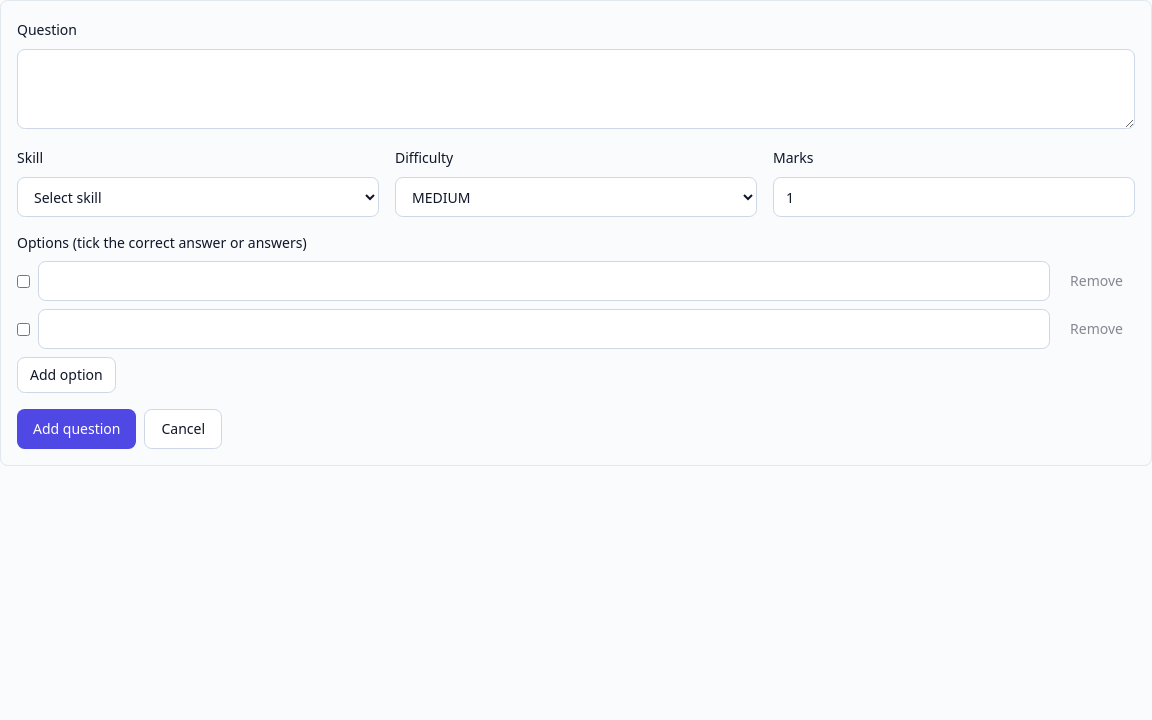
Test: QuestionForm validation › requires at least 1 correct option
Type "What is 2+2?" into the text box labelled "Question" at point(576, 89), box x1=17 y1=49 x2=1135 y2=129
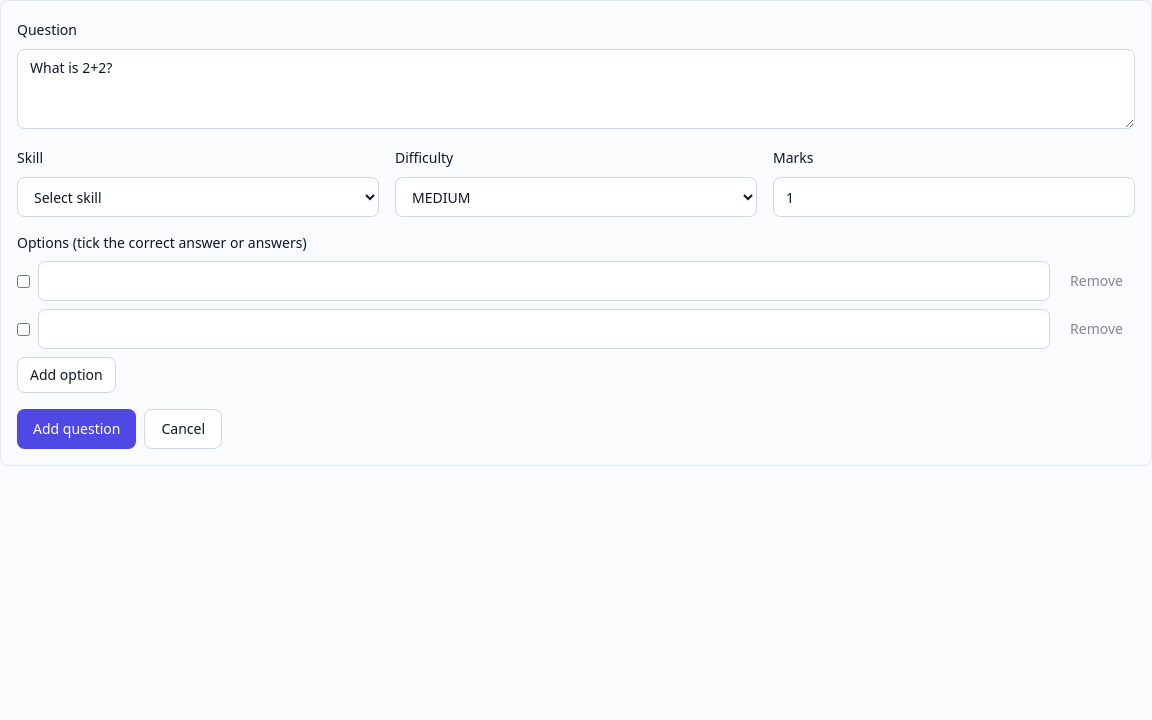
Select "Logic" in the dropdown labelled "Skill" at point(198, 197), box x1=17 y1=177 x2=379 y2=217
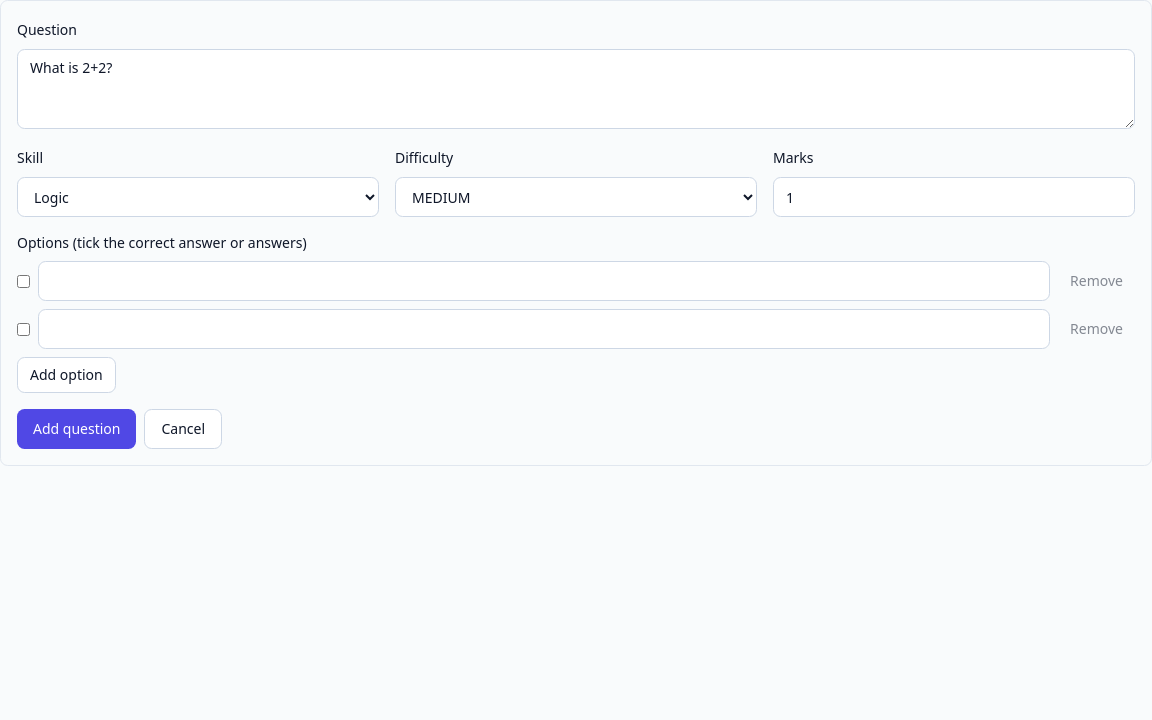
Type "4" into the field named "Option 1 text" at point(544, 281), box x1=38 y1=261 x2=1050 y2=301
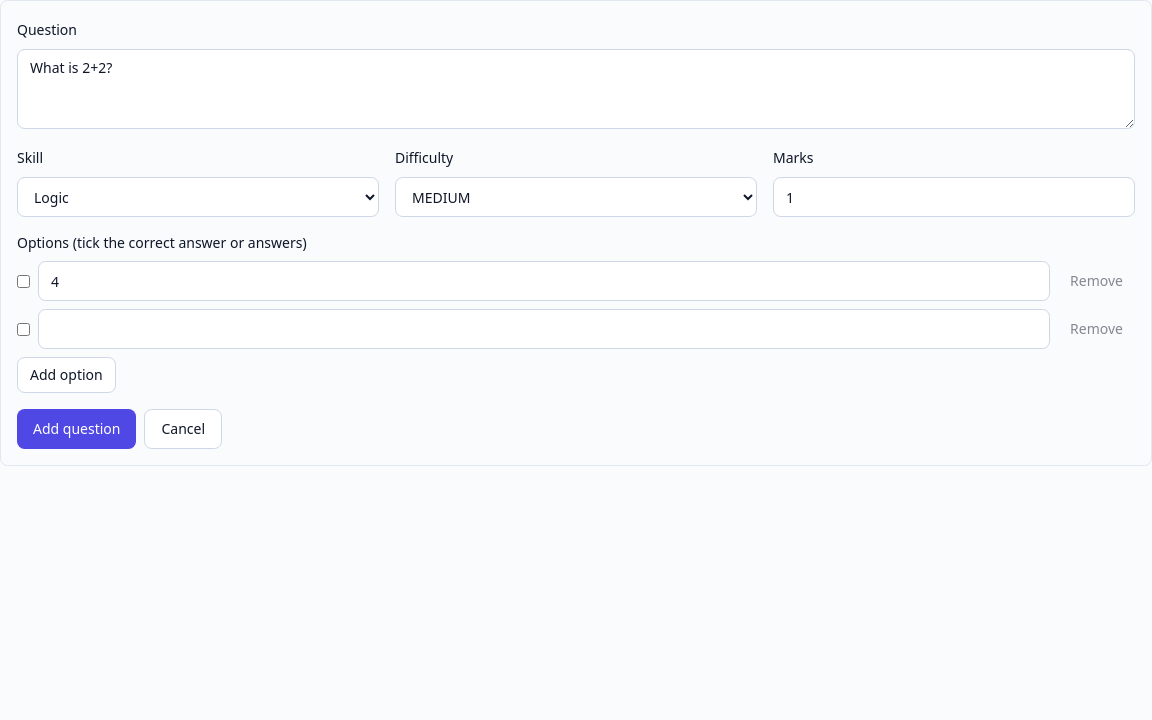
Type "5" into the field named "Option 2 text" at point(544, 329), box x1=38 y1=309 x2=1050 y2=349
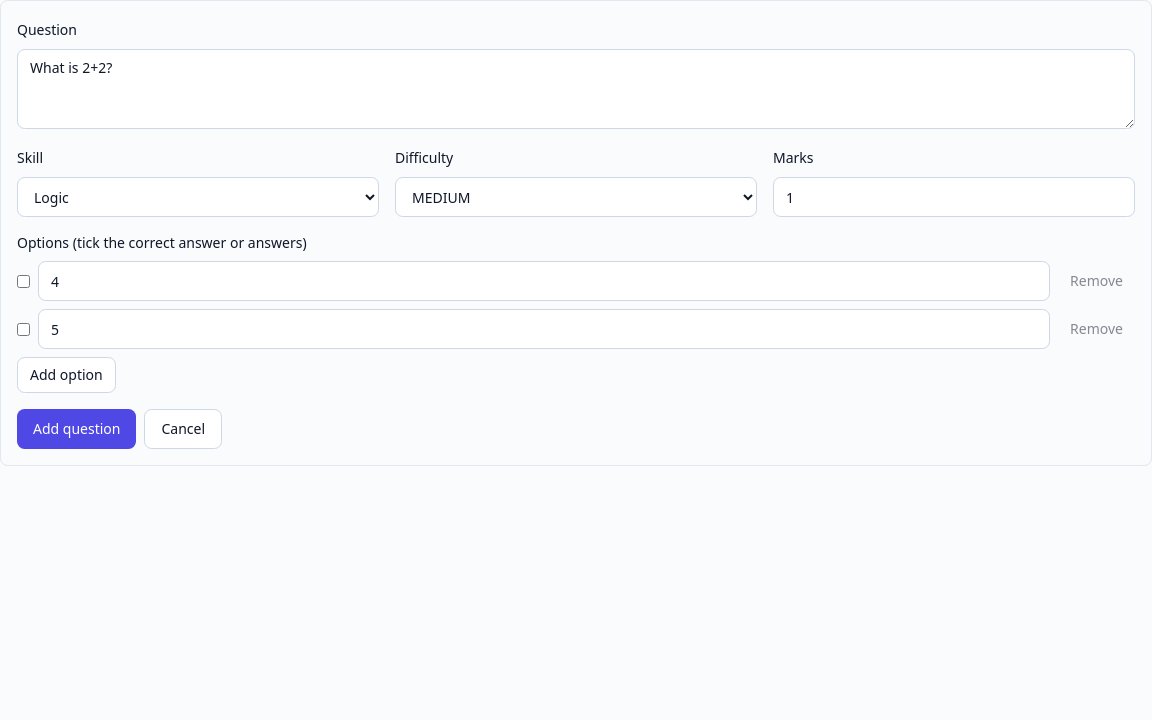
Click the button "Add question" at point(77, 429), box x1=17 y1=409 x2=136 y2=449
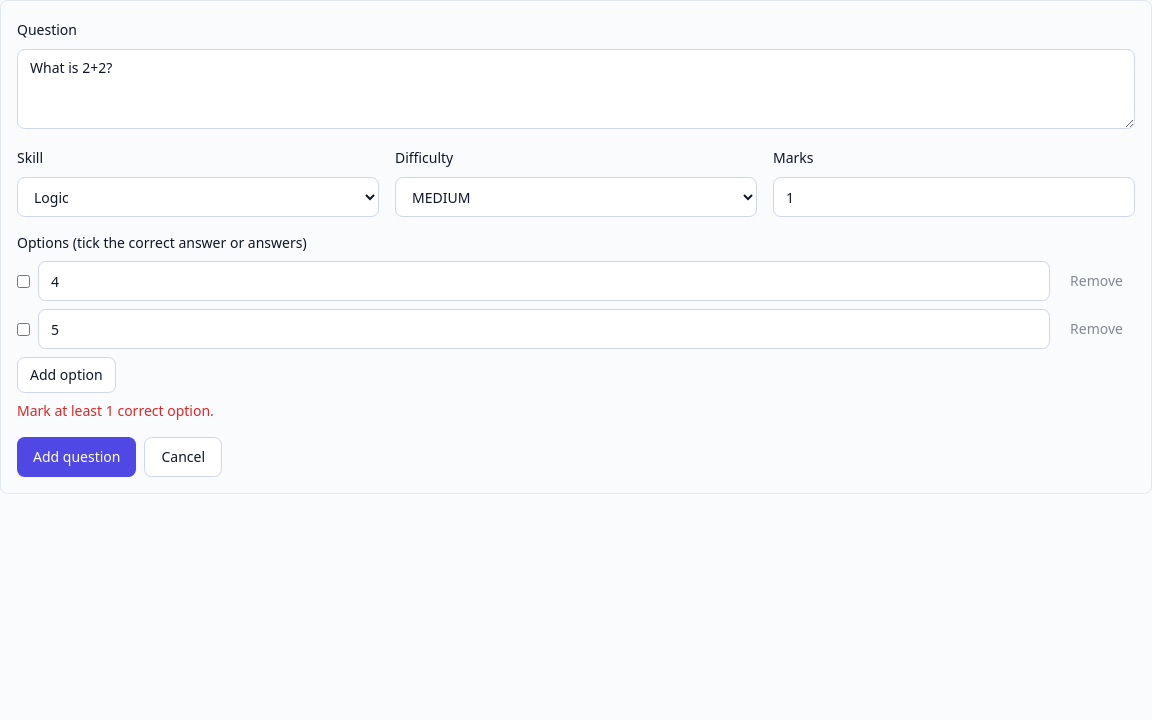
Now the text "Mark at least 1 correct option." is shown, box x1=17 y1=401 x2=214 y2=420
